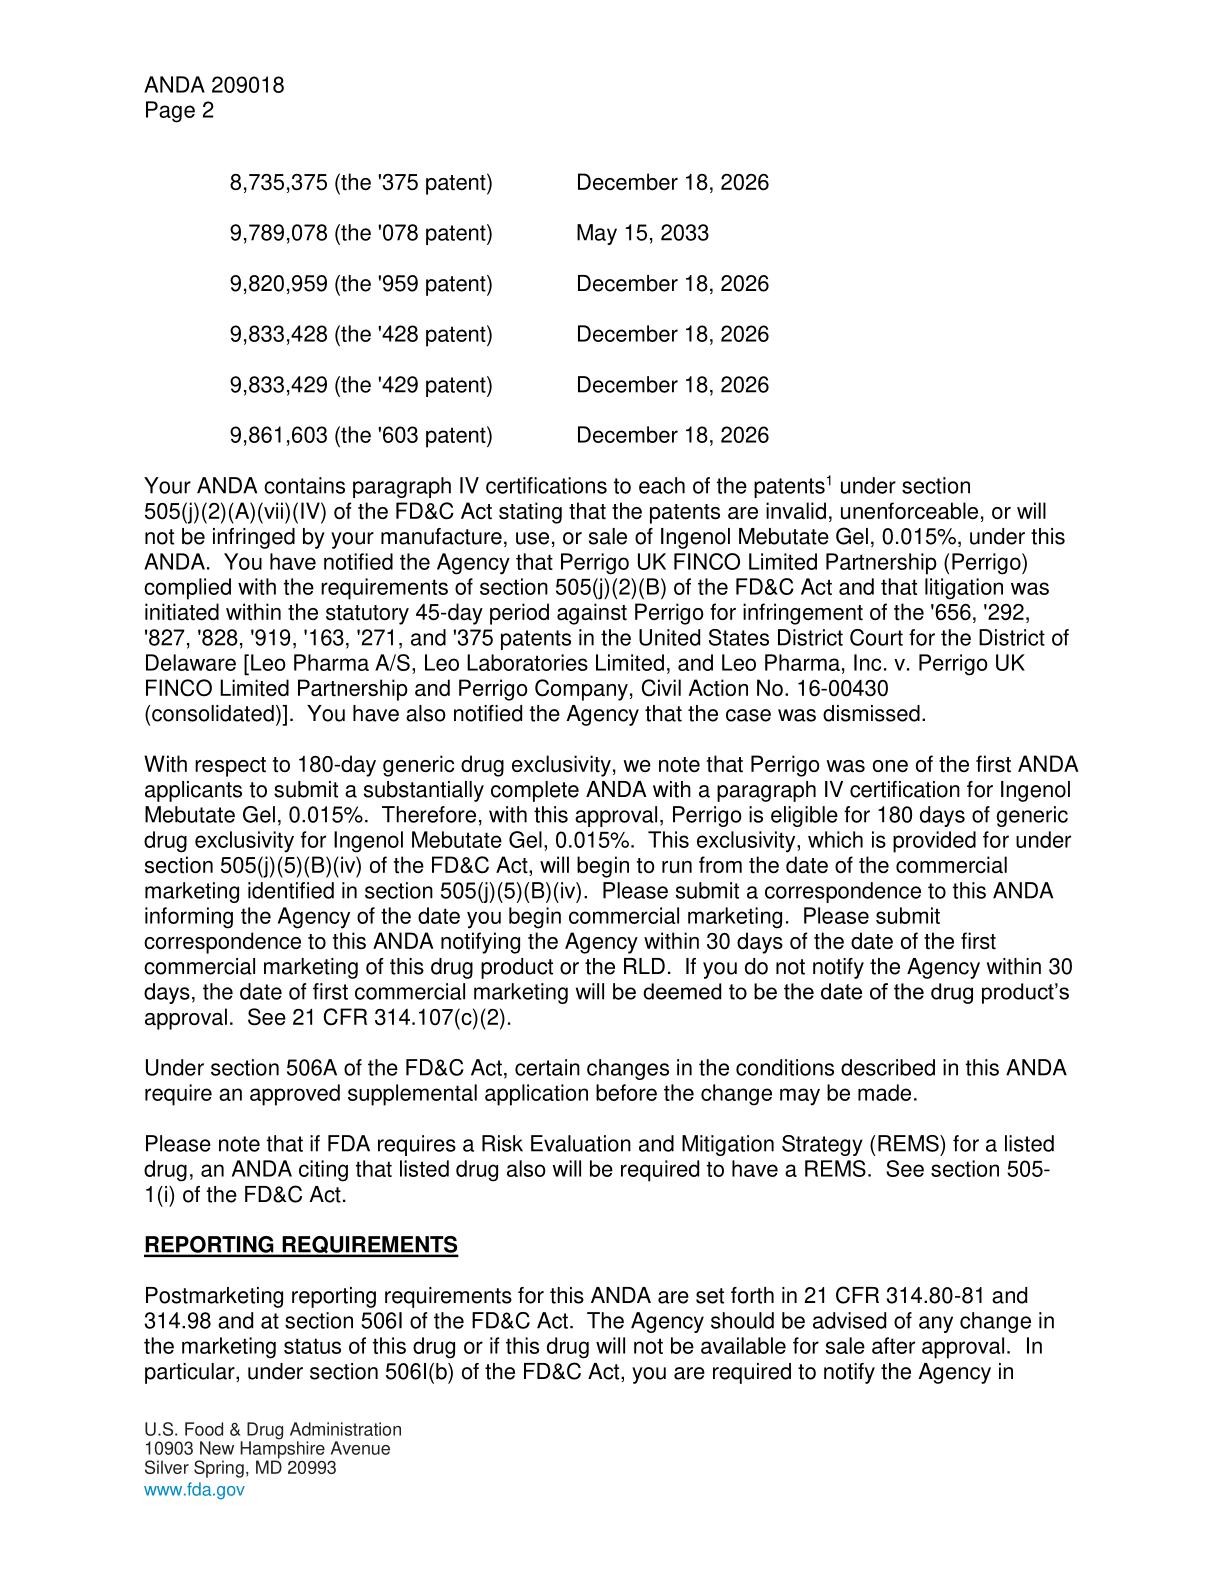nolines: (228, 170, 771, 445)
